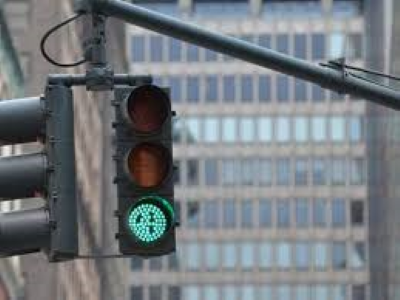trafficlight_green: (122, 83, 174, 251)
